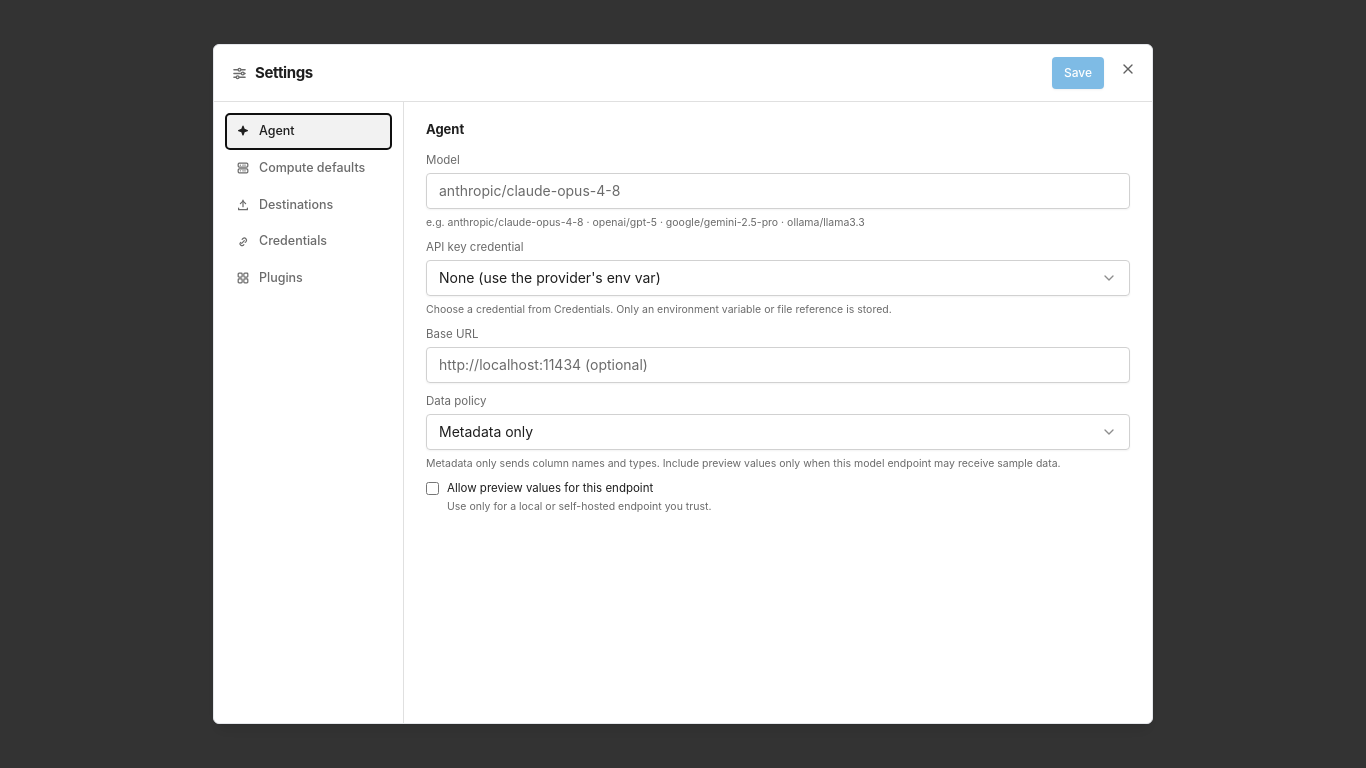
it: SettingsModal — plugin config form › refreshes a failed plugin secret clear and reports that the stored reference remains set
Type "staged-model" into the field with placeholder "anthropic/claude-opus-4-8" at (778, 191), box [426, 173, 1130, 209]
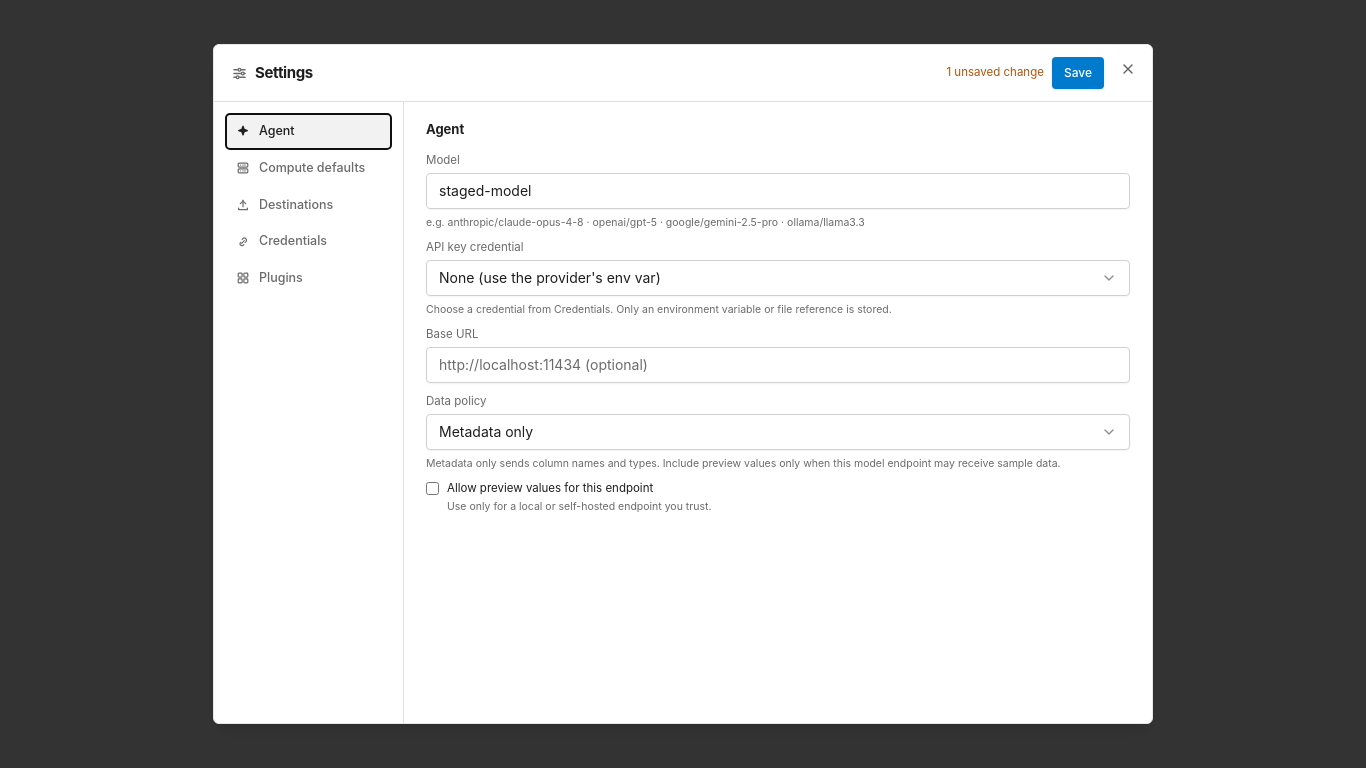
Click the button "Plugins" at (308, 278), box [226, 261, 391, 296]
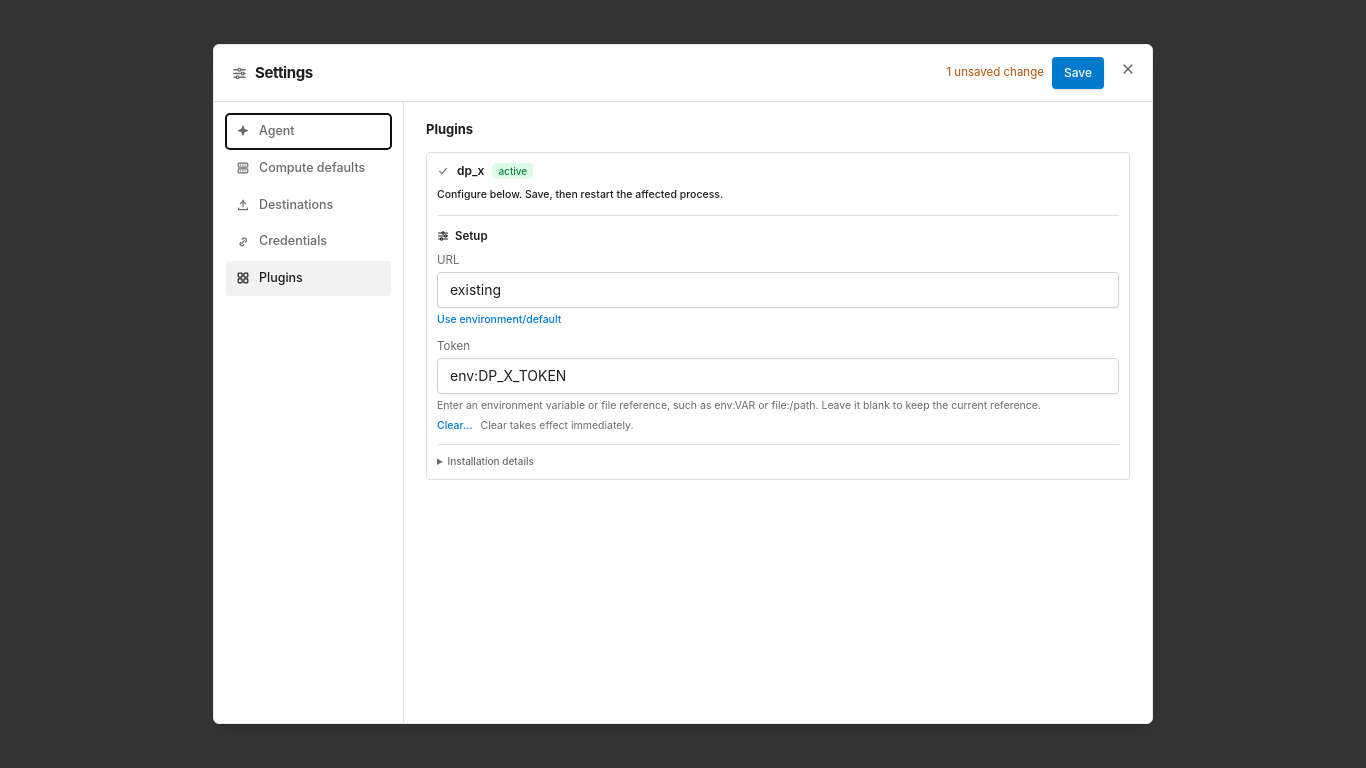
Click the button "Clear…" at (455, 426), box [437, 418, 472, 434]
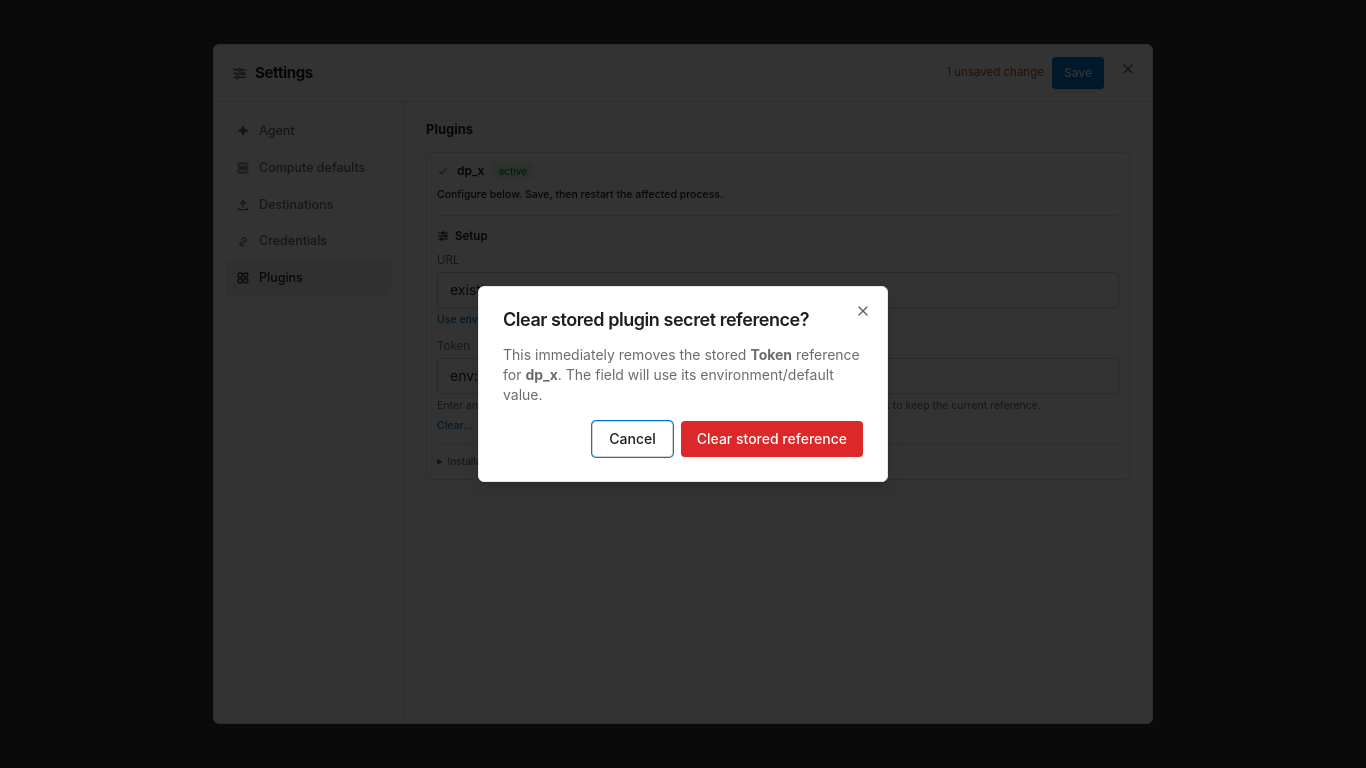
Click the button "Clear stored reference" at (772, 439), box [681, 421, 863, 457]
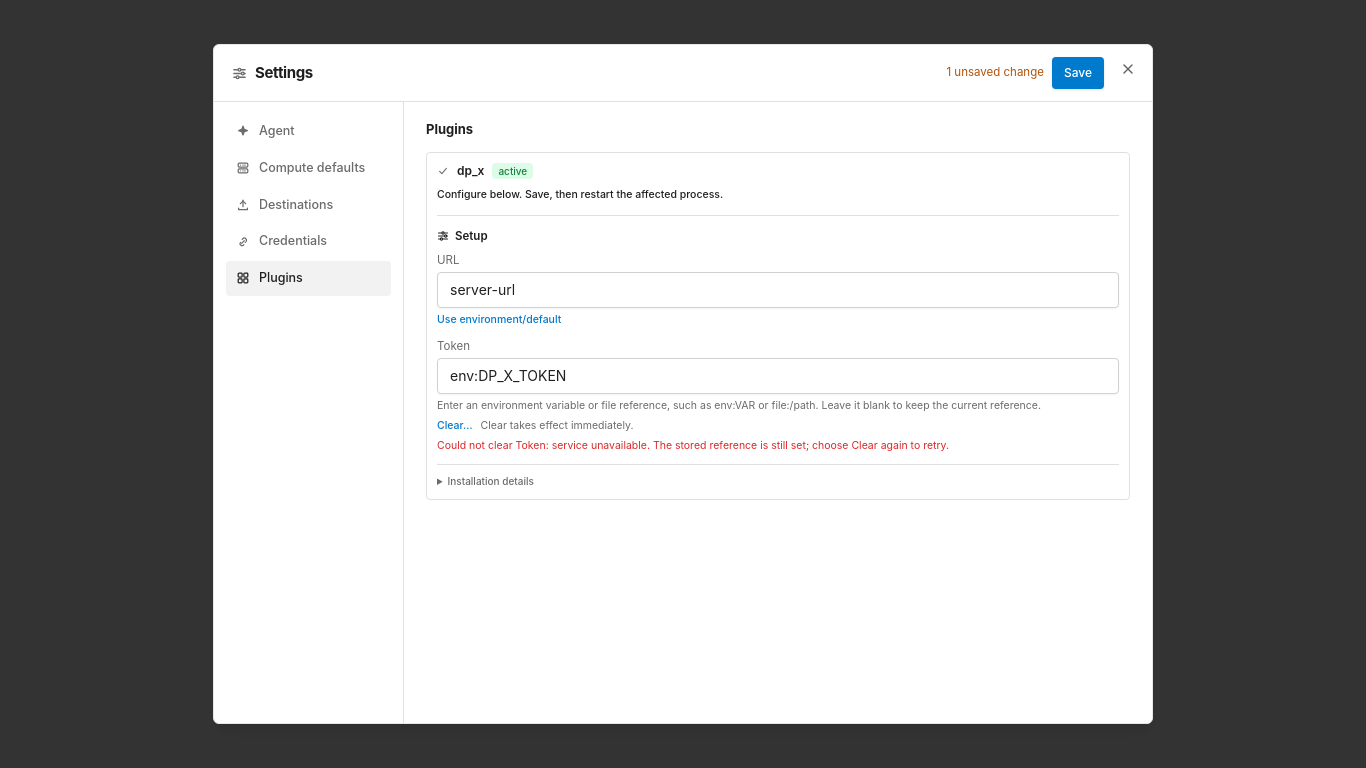
Expected: the field named "TOKEN" holds "env:DP_X_TOKEN", [437, 358, 1119, 394]
Expected: the button "Clear…" is enabled, [437, 418, 472, 434]
Expected: the 2nd message shows "The stored reference is still set; choose Clear again to retry.", [437, 438, 949, 452]
Click the button "Agent" at (308, 131), box [226, 114, 391, 149]
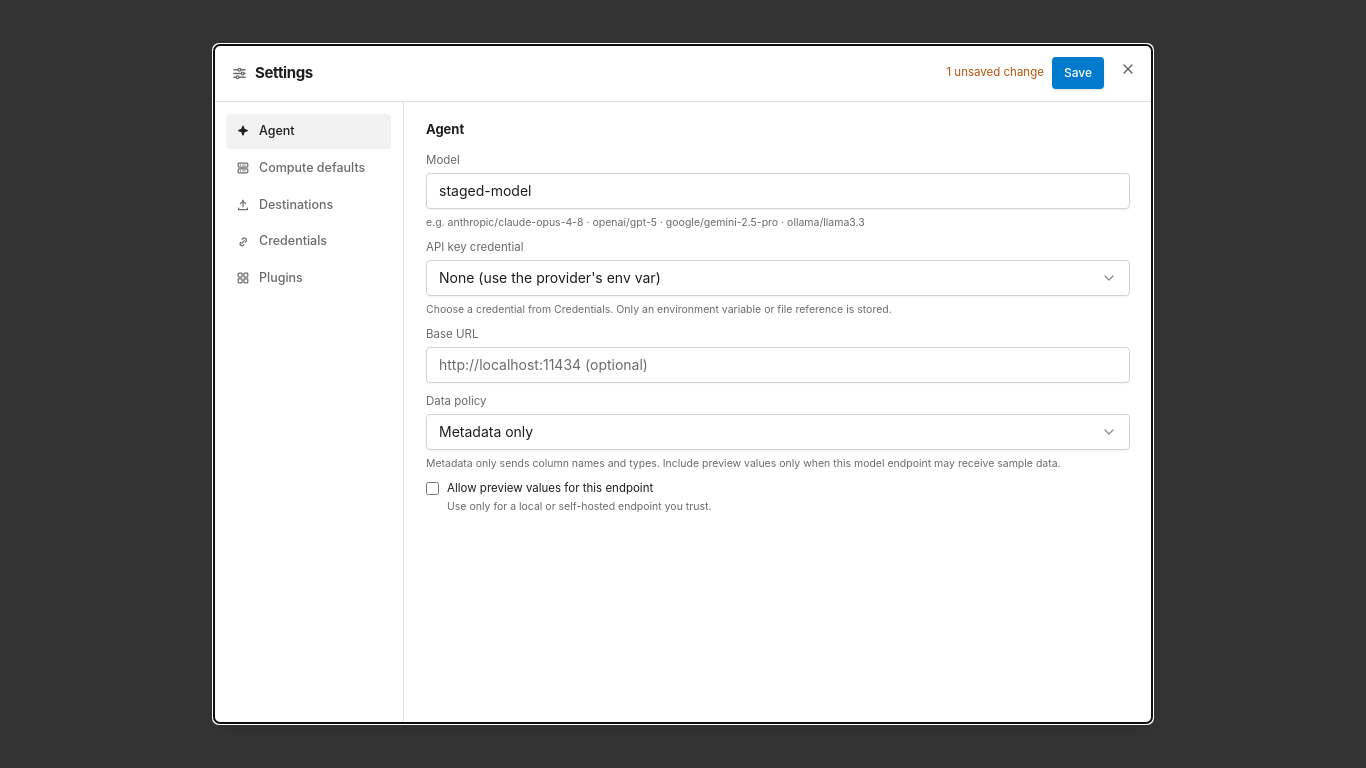
Expected: the field with placeholder "anthropic/claude-opus-4-8" holds "staged-model", [426, 173, 1130, 209]
